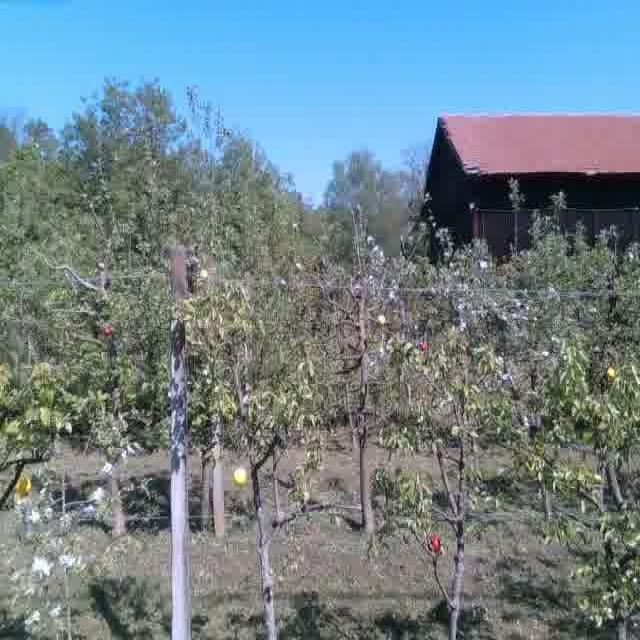red: (426, 532, 442, 554), (100, 323, 114, 338), (418, 336, 430, 352)
yellow: (10, 469, 33, 500), (231, 463, 252, 488), (375, 310, 389, 328)
